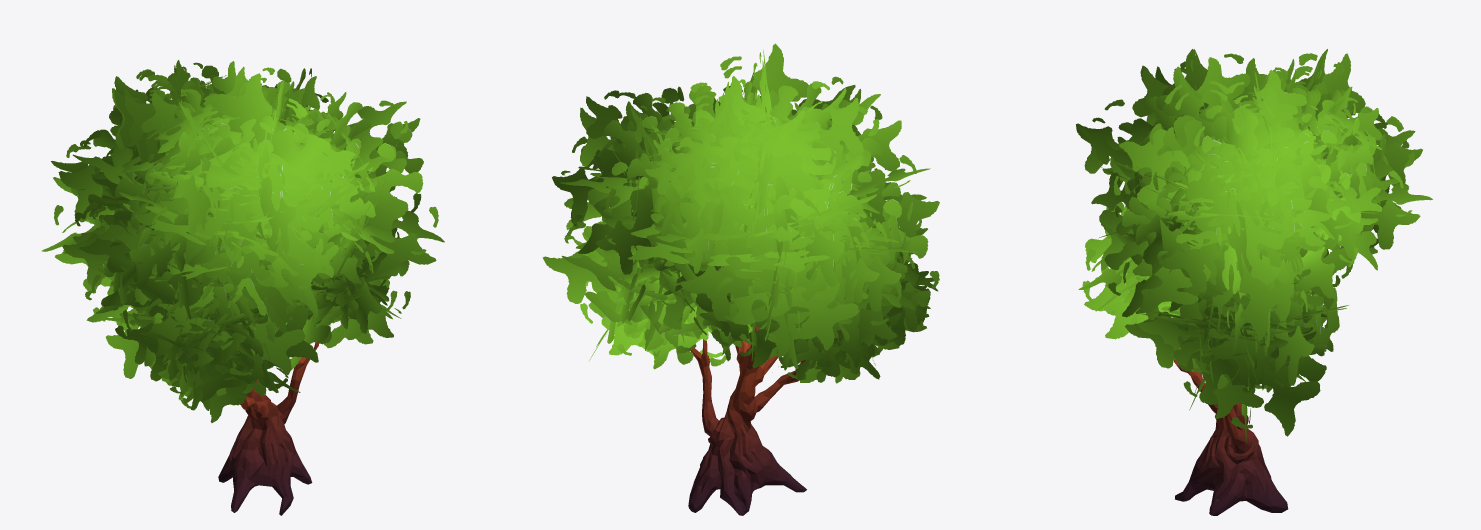
Rendered from 03_Simple_Tree_10_2_5k_002.fbx.
The picture shows the model from 3 angles, left to right: view 1: azimuth 30°, elevation 25°; view 2: azimuth 150°, elevation 25°; view 3: azimuth 270°, elevation 25°; orthographic projection. The views are drawn at different scales.
Parts seen in each view (by area): view 1: 03 Simple Tree 10_2_5k.002; view 2: 03 Simple Tree 10_2_5k.002; view 3: 03 Simple Tree 10_2_5k.002.
Boxes of the visible parts, x1,y1,x2,y2 form: 03 Simple Tree 10_2_5k.002: [41, 60, 444, 515]; 03 Simple Tree 10_2_5k.002: [542, 43, 939, 515]; 03 Simple Tree 10_2_5k.002: [1076, 49, 1432, 515].
Size of the model in its own units: 1242 by 1282 by 1115.
